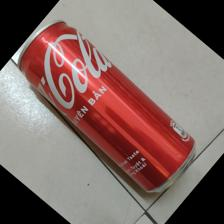Coca: (16, 19, 199, 196)
